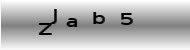5: (120, 12, 134, 26)
J: (50, 8, 58, 24)
Z: (37, 22, 53, 36)
a: (66, 16, 78, 28)
b: (92, 11, 106, 25)
